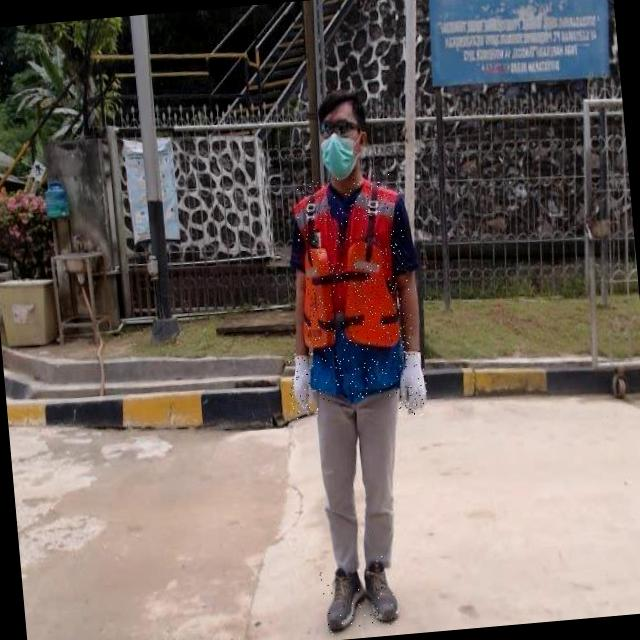boots: (319, 568, 365, 634), (358, 554, 399, 628)
gloves: (398, 351, 432, 414), (290, 356, 316, 416)
no-helmet: (307, 86, 374, 180)
vest: (293, 173, 418, 402)
